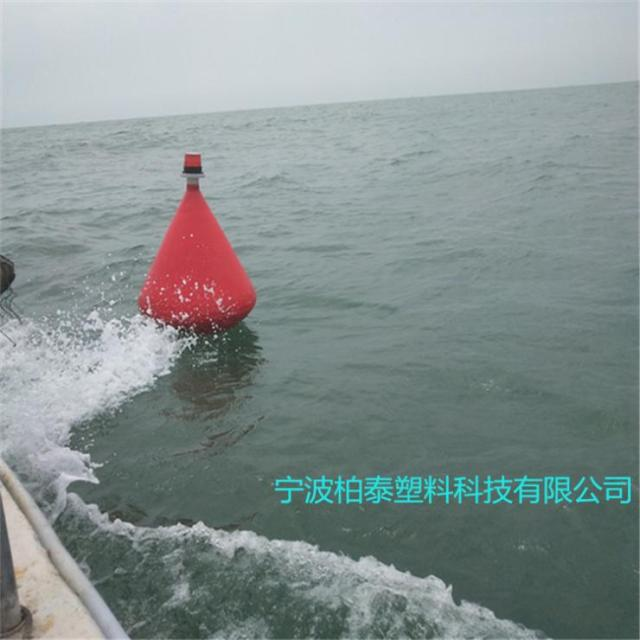buoy: (138, 147, 256, 332)
